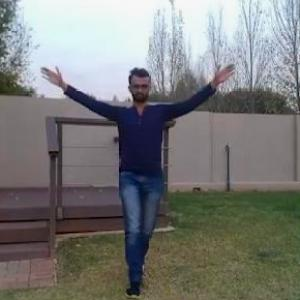takeoff: (38, 64, 231, 276)
